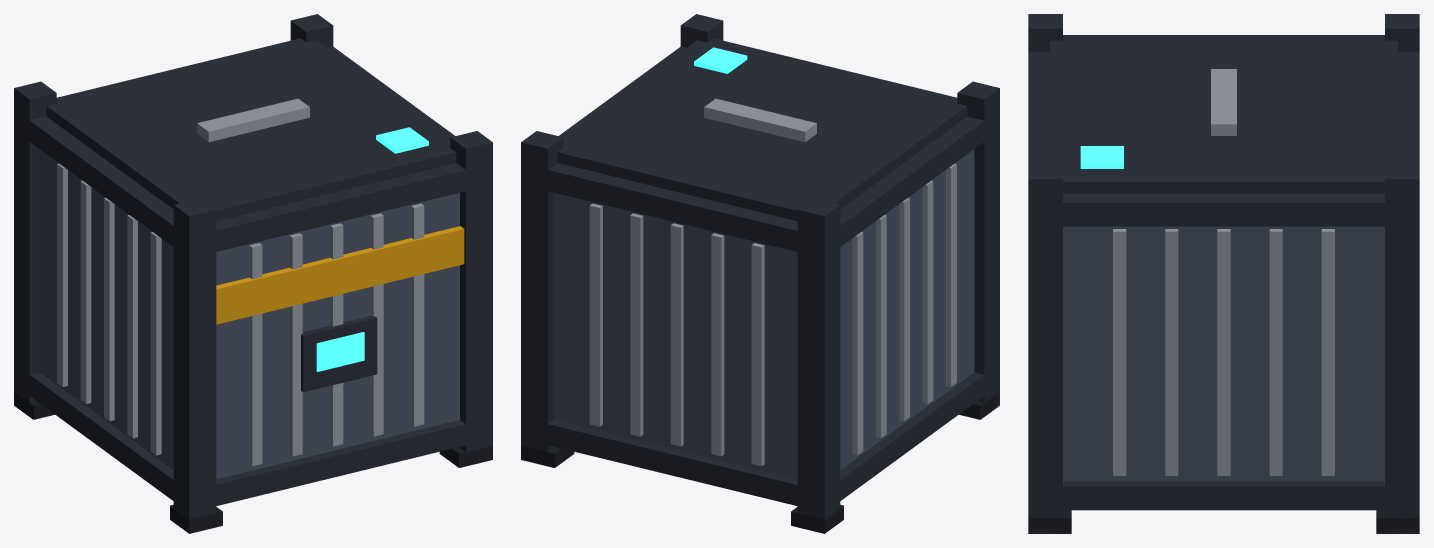
Rendered from storage_crate.glb.
3 renders of one model, left to right at view 1: azimuth 30°, elevation 25°; view 2: azimuth 150°, elevation 25°; view 3: azimuth 270°, elevation 25°, orthographic. The views are drawn at different scales.
Visible parts, largest first — view 1: storage_crate; view 2: storage_crate; view 3: storage_crate.
Boxes of the visible parts, box(x1,y1,x2,y2) form: storage_crate: box(14, 14, 492, 533); storage_crate: box(521, 14, 999, 533); storage_crate: box(1028, 14, 1419, 533).
Size of the model in its own units: 0.9 by 0.9 by 0.9.
